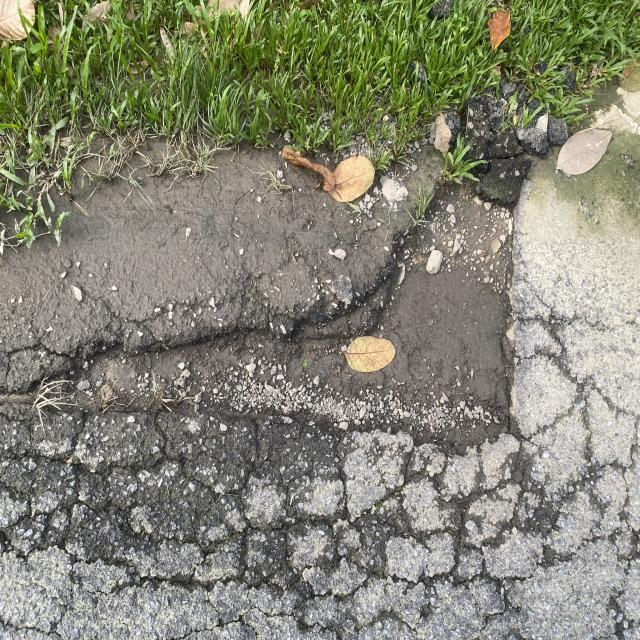pothole: (72, 202, 601, 464)
